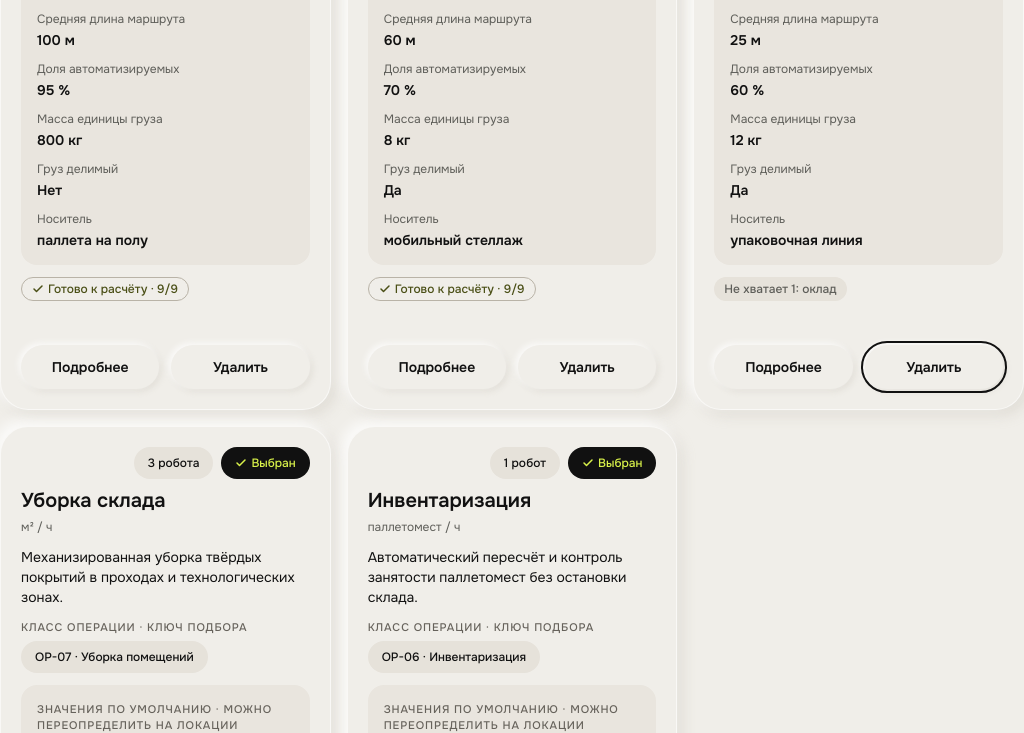
Test: LocationPage (экраны 15 и 17) › окно 17в «Удалить процесс с локации» (PRD 10.4) › removes the process from the location, announces it and moves focus to the heading
(page scrolled)
Click the button with aria-label "Удалить процесс «Упаковка» с локации" at (934, 367), box [865, 345, 1003, 389]
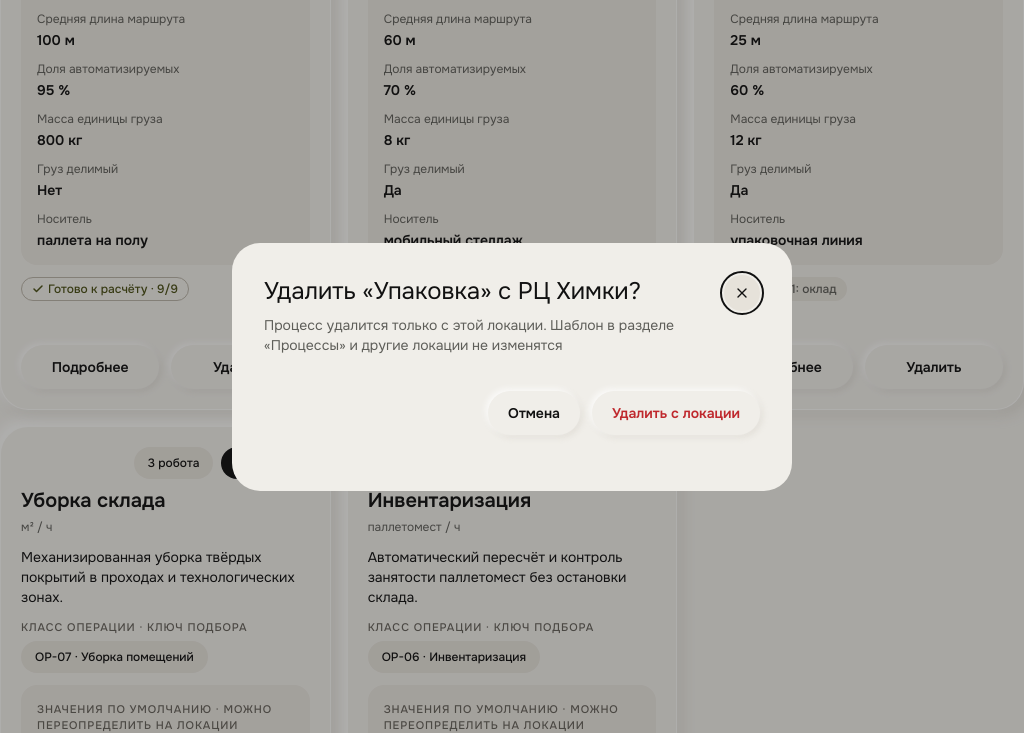
Click the button "Удалить с локации" at (676, 413), box [592, 391, 760, 435]
(page scrolled)
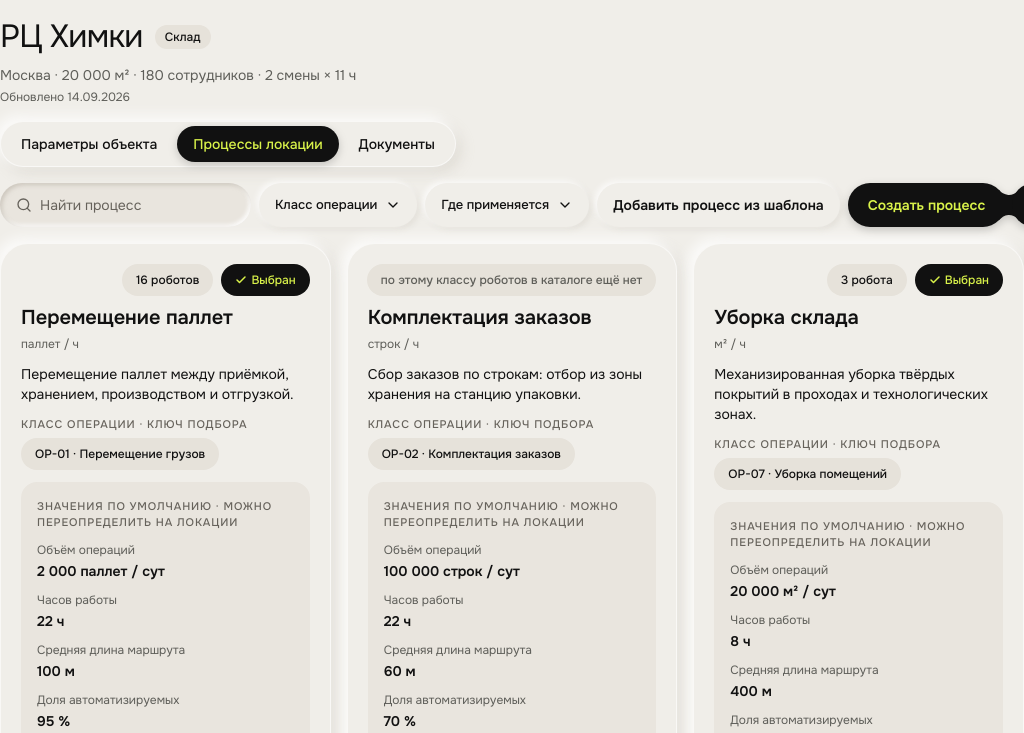
Expected: the dialog is gone
